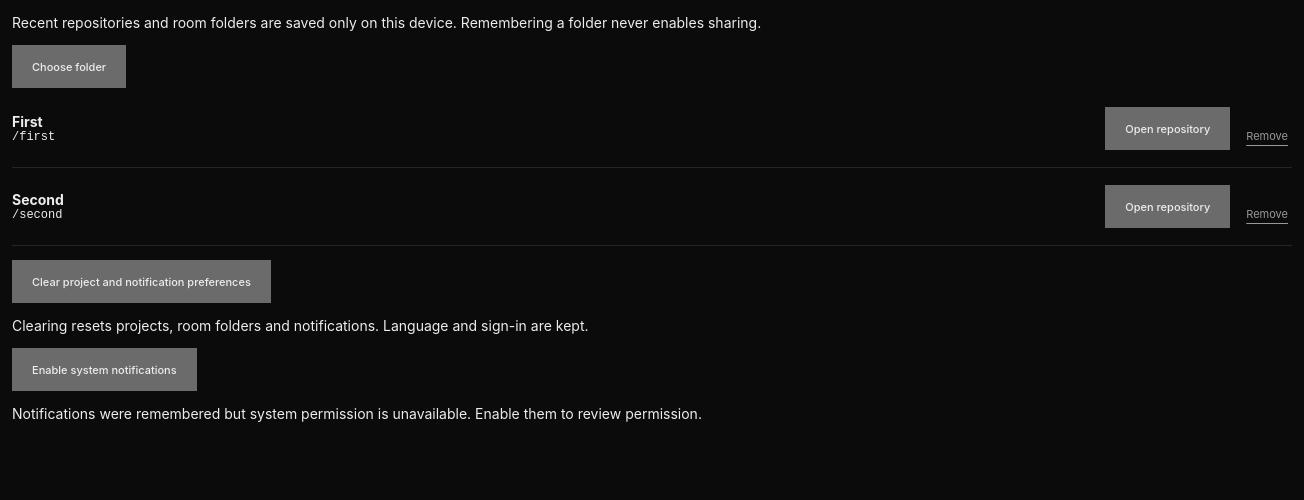
it: restores notification intent without playing audio or requesting permission
This screenshot has width=1304, height=500.
Expected: the text "Notifications were remembered" is shown, [12,405,702,422]
Click the button "Enable system notifications" at [104, 370], box [12,348,197,391]
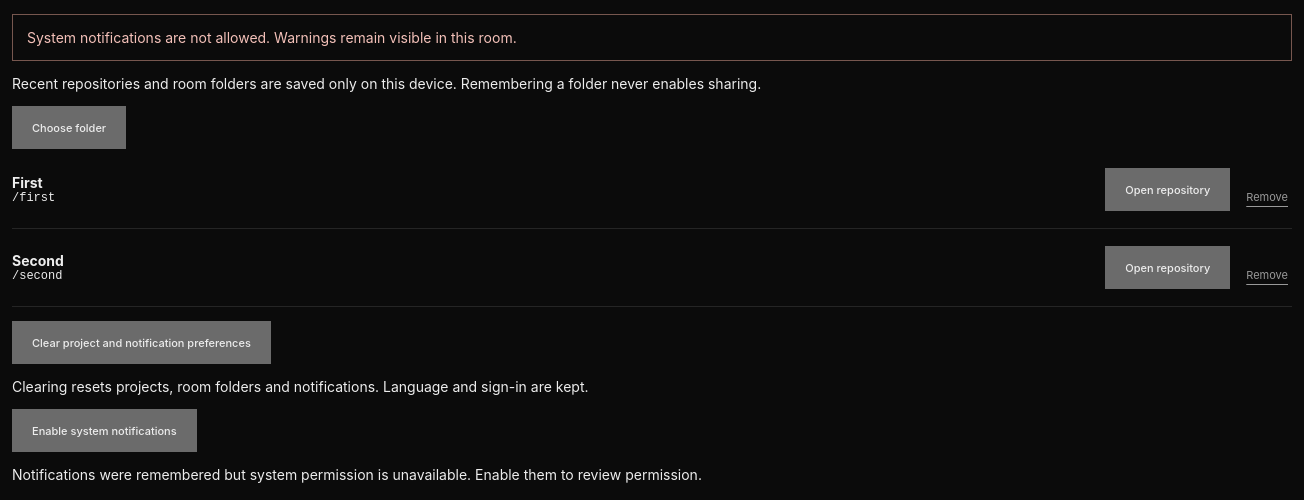
Expected: the message "System notifications are not allowed. Warnings remain visible in this room." is shown, [12,14,1292,61]
